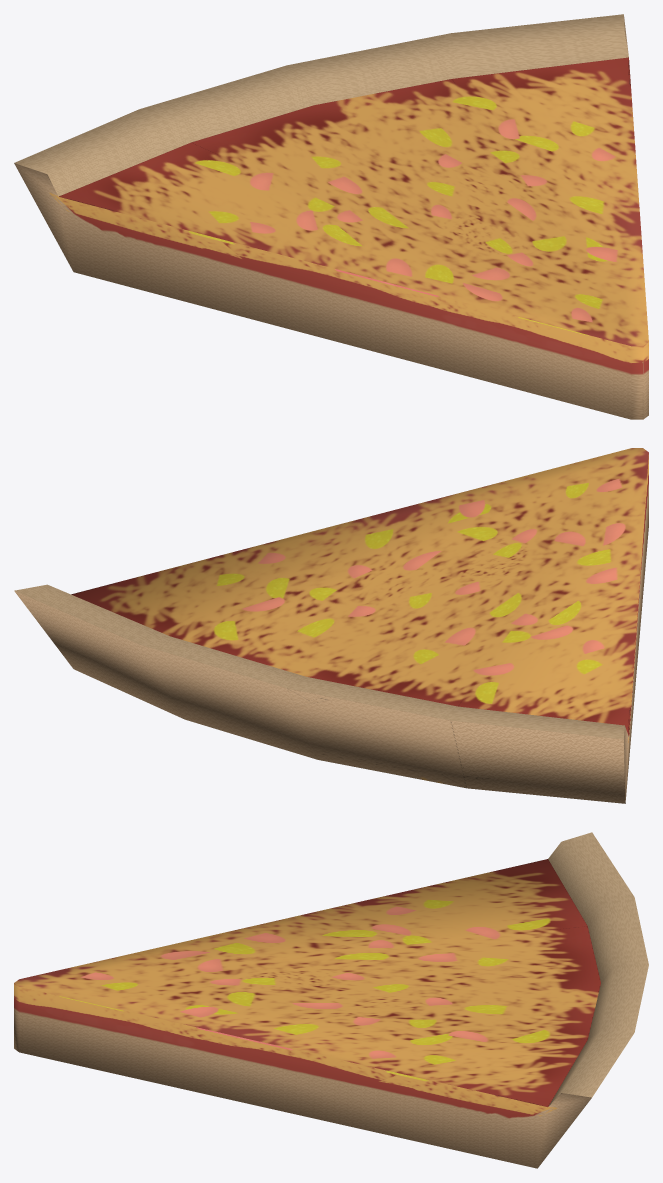
File: WorldItem_PizzaHawaiiSlice.fbx
The picture shows the model from 3 angles, top to bottom: view 1: azimuth 30°, elevation 25°; view 2: azimuth 150°, elevation 25°; view 3: azimuth 270°, elevation 25°; orthographic projection. The views are drawn at different scales.
Visible parts, largest first — view 1: Pie_Lemonmeringue001; view 2: Pie_Lemonmeringue001; view 3: Pie_Lemonmeringue001.
Boxes of the visible parts, x1=… form: Pie_Lemonmeringue001: x1=14, y1=14, x2=648, y2=419; Pie_Lemonmeringue001: x1=14, y1=448, x2=648, y2=803; Pie_Lemonmeringue001: x1=14, y1=832, x2=648, y2=1168.
Bounding box in the file's own units: 22.09 × 3.25 × 22.34.
